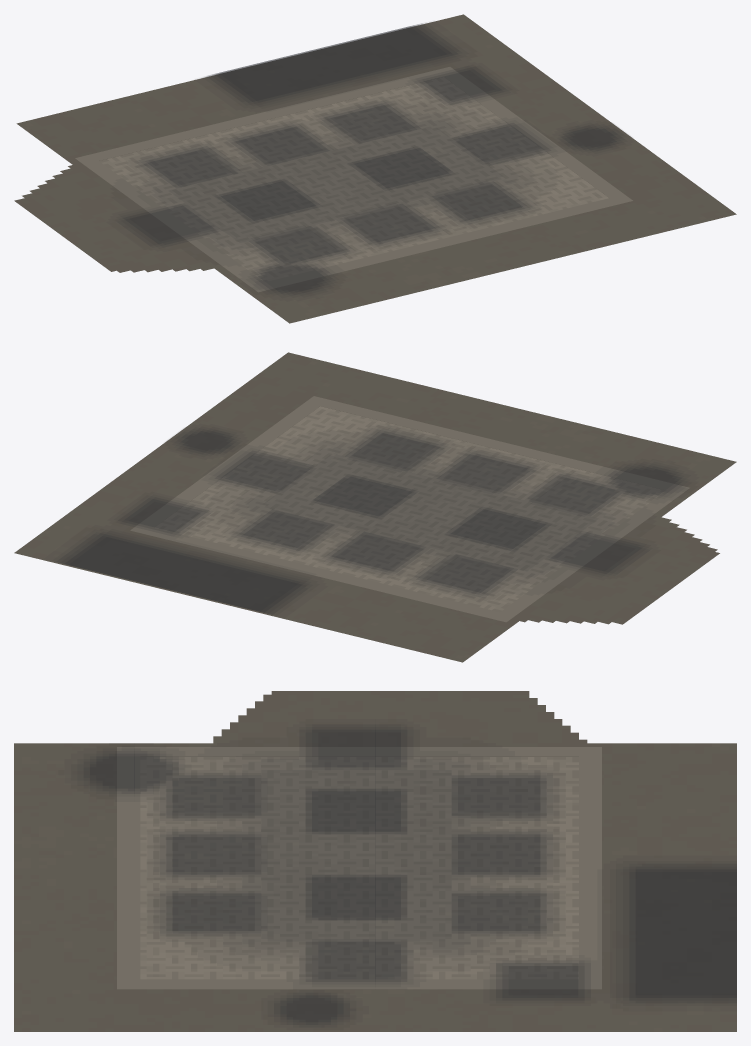
The model's file is Dining_Floor.glb.
3 views of the same model, one above another, from view 1: azimuth 30°, elevation 25°; view 2: azimuth 150°, elevation 25°; view 3: azimuth 270°, elevation 25° (orthographic). The views are drawn at different scales.
Visible parts, largest first — view 1: root; view 2: root; view 3: root.
Boxes of the visible parts, left/top/right/bottom form: root: left=14, top=14, right=736, bottom=323; root: left=14, top=352, right=736, bottom=662; root: left=14, top=691, right=736, bottom=1031.
Bounding box in the file's own units: 4.46 × 0.0104 × 4.
